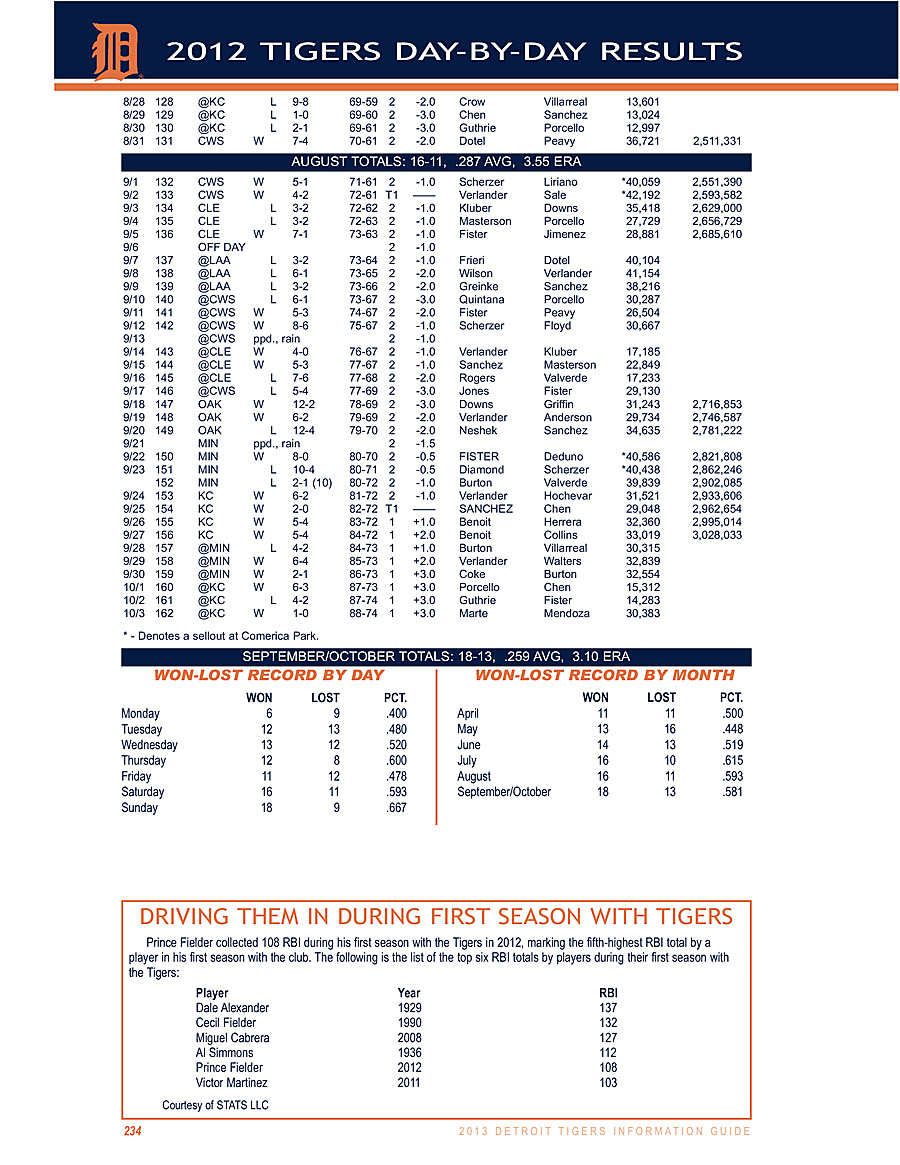caption: (242, 642, 638, 667), (289, 142, 591, 174)
section: (140, 904, 736, 931)
table: (115, 174, 755, 638), (121, 667, 753, 835), (187, 982, 634, 1093), (119, 93, 667, 147)
text: (125, 933, 731, 980)
